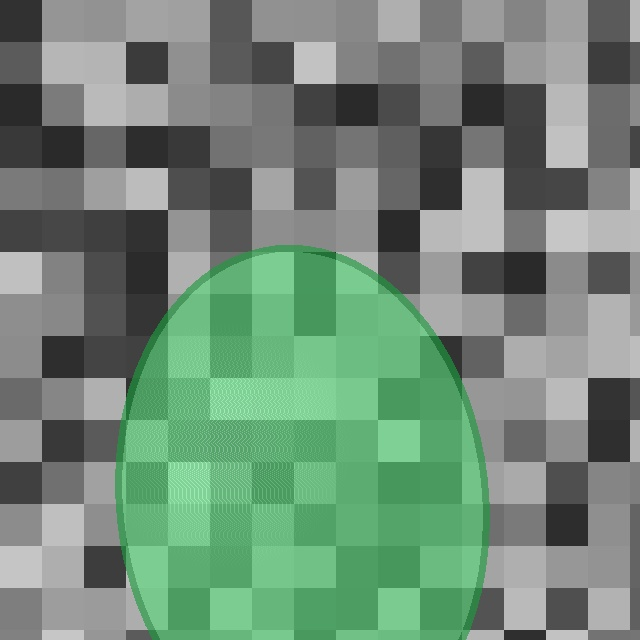lens: (119, 248, 485, 640)
